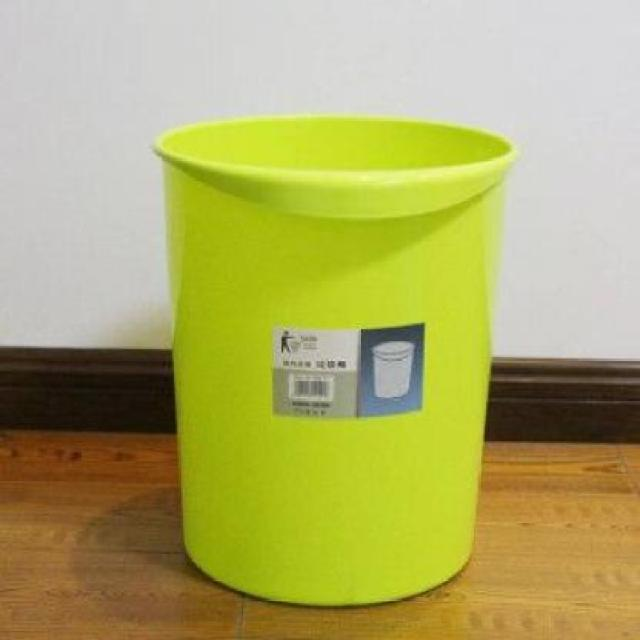dustbin: (146, 109, 524, 612)
